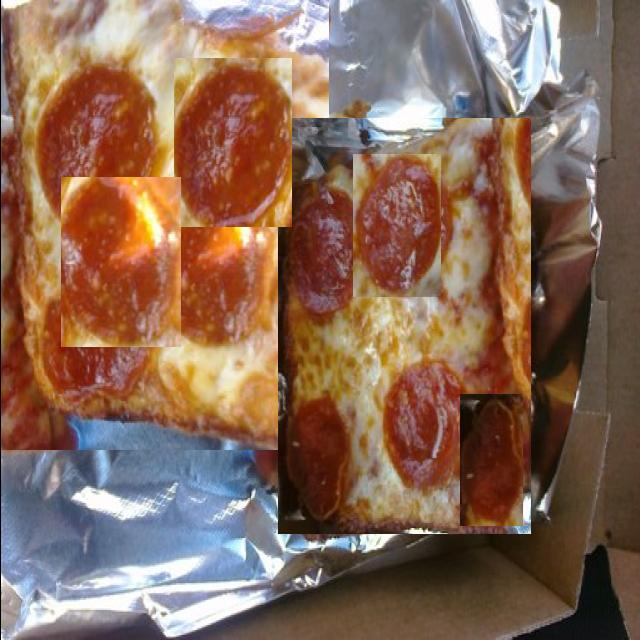pepperoni: (60, 177, 180, 347), (173, 58, 291, 227), (178, 260, 284, 395), (352, 154, 440, 297), (347, 362, 430, 490), (450, 188, 516, 324), (459, 394, 522, 526), (62, 43, 110, 154)
pizza: (0, 0, 328, 450), (277, 118, 530, 534)
